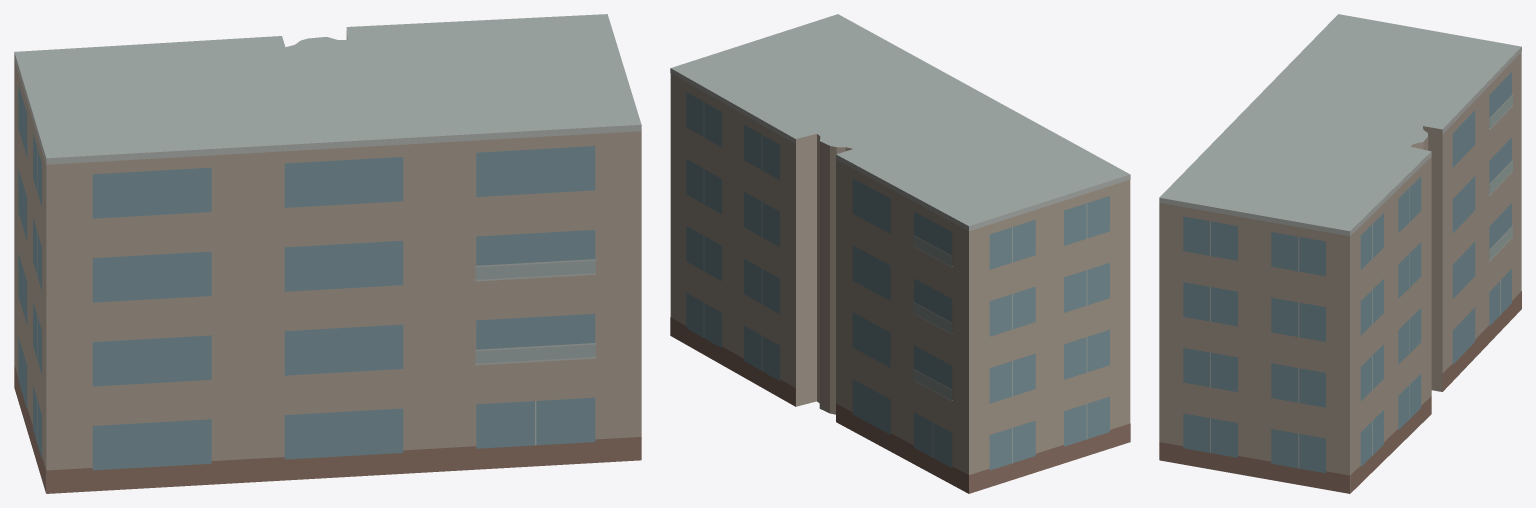
Rendered from survey-upis-33039363.glb.
The picture shows the model from 3 angles, left to right: view 1: azimuth 30°, elevation 25°; view 2: azimuth 150°, elevation 25°; view 3: azimuth 270°, elevation 25°; orthographic projection. The views are drawn at different scales.
Parts seen in each view (by area): view 1: survey-upis-33039363.tmp; view 2: survey-upis-33039363.tmp; view 3: survey-upis-33039363.tmp.
Boxes of the visible parts, box(x1,y1,x2,y2) form: survey-upis-33039363.tmp: box(14, 14, 641, 493); survey-upis-33039363.tmp: box(670, 14, 1130, 493); survey-upis-33039363.tmp: box(1159, 14, 1521, 493).
Size of the model in its own units: 22.72 by 12.8 by 16.02.
